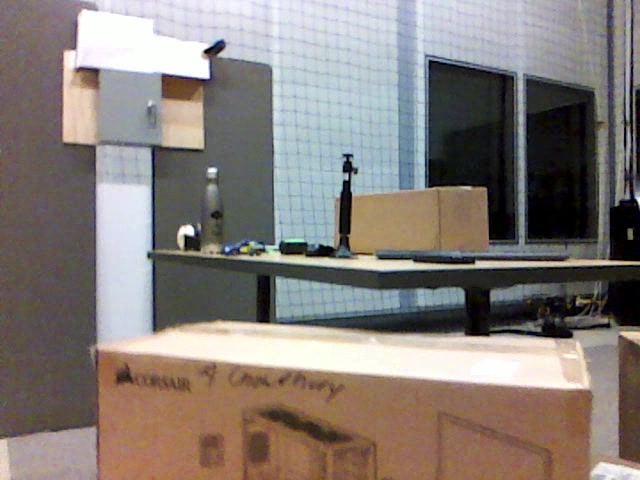box: (94, 318, 593, 480), (334, 185, 488, 251), (621, 331, 640, 463)
